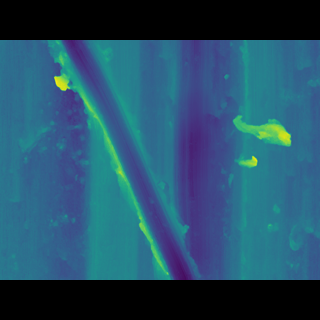Loch: (58, 68, 199, 251), (233, 126, 289, 152)
